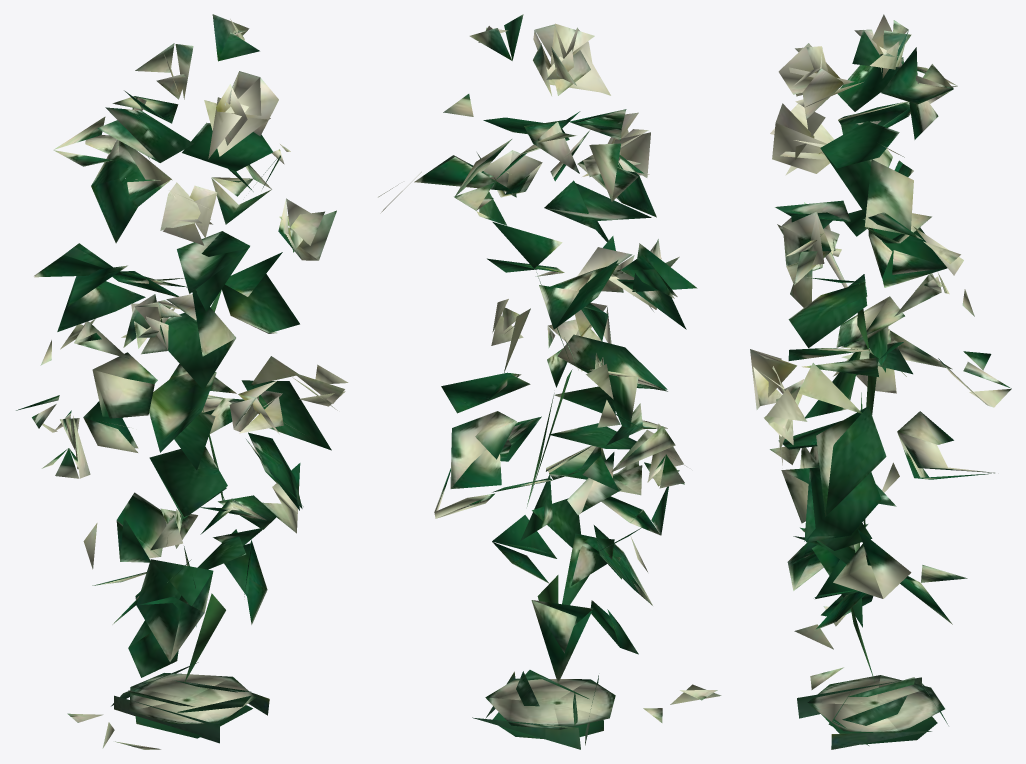
File: crop-moonflower.lod1.glb
3 views of the same model, side by side, from view 1: azimuth 30°, elevation 25°; view 2: azimuth 150°, elevation 25°; view 3: azimuth 270°, elevation 25° (orthographic). The views are drawn at different scales.
Parts seen in each view (by area): view 1: plant.001, fruit.001; view 2: plant.001, fruit.001; view 3: plant.001, fruit.001.
Part boxes in pixels (x1,y1,x2,y2): plant.001: [16, 14, 336, 743]; fruit.001: [32, 19, 348, 749]; plant.001: [414, 14, 697, 749]; fruit.001: [378, 23, 721, 729]; plant.001: [775, 30, 994, 749]; fruit.001: [750, 14, 1011, 732].
Bounding box in the file's own units: 0.3413 × 0.803 × 0.2678.
1 material, 1 textured.
